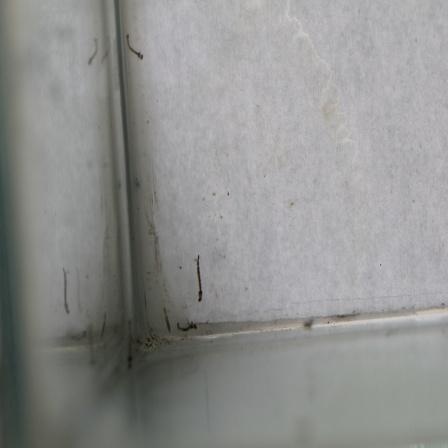Jentik-Nyamuk: (192, 253, 208, 305), (124, 30, 146, 63), (173, 318, 201, 335)
